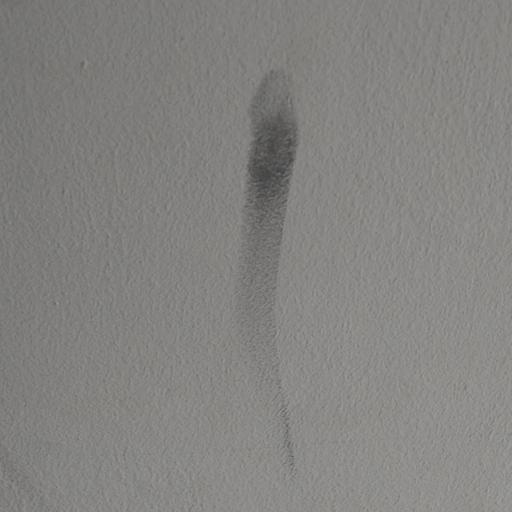stain: (206, 42, 314, 474)
